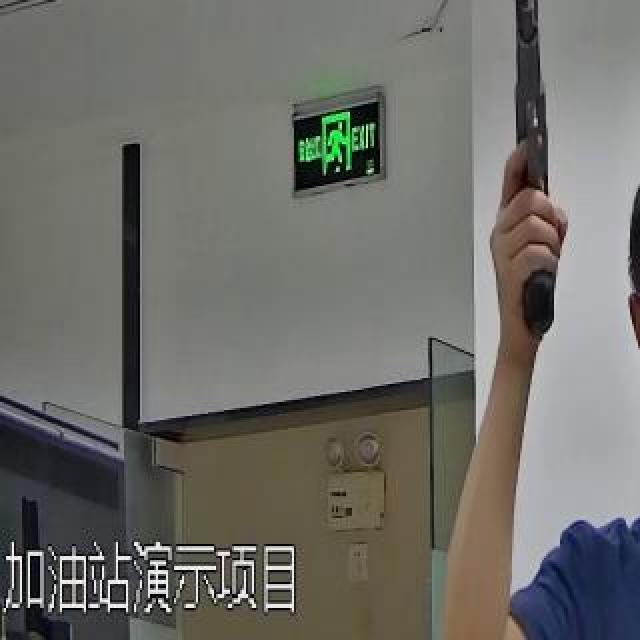Guns: (476, 0, 584, 358)
